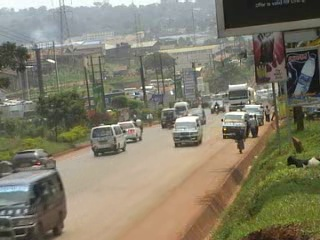Car: (11, 146, 59, 177), (114, 118, 143, 144), (158, 105, 180, 130), (183, 105, 207, 126), (208, 98, 227, 114)
Motorcycle: (165, 110, 175, 130), (134, 116, 146, 131), (214, 99, 220, 115)
